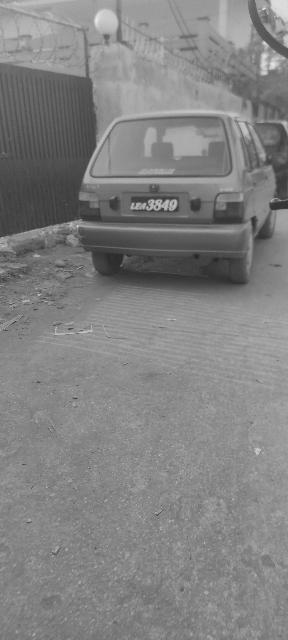Number: (130, 198, 178, 212)
